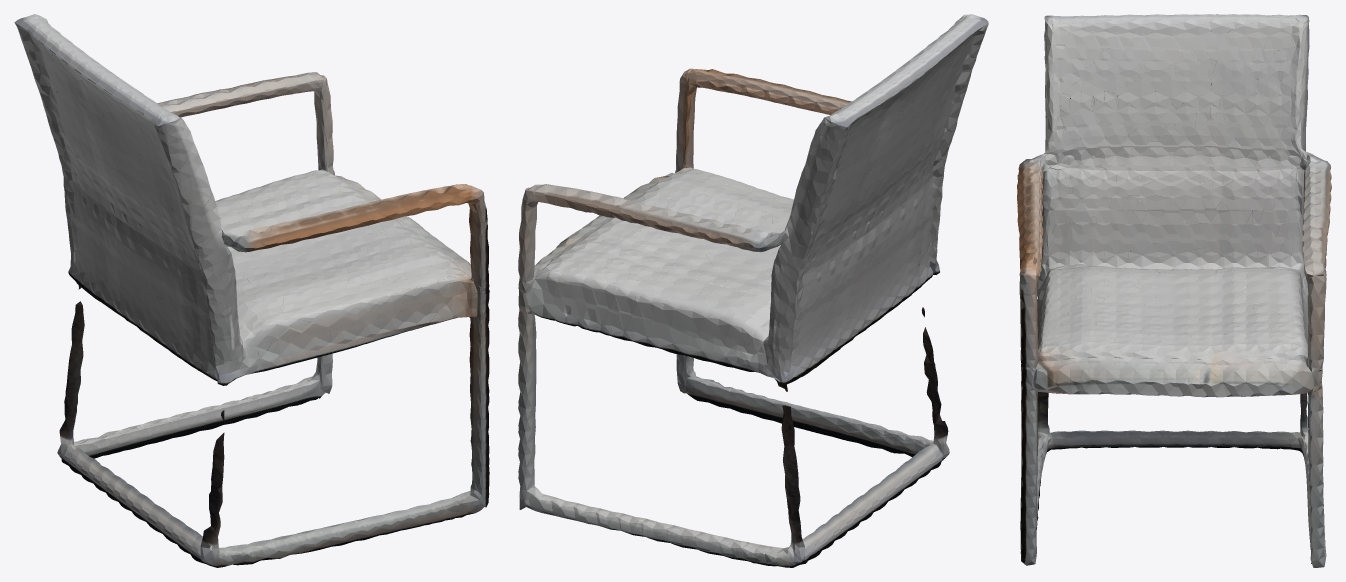
Rendered from elem_94_115_131_206_8_0.obj.
The picture shows the model from 3 angles, left to right: view 1: azimuth 30°, elevation 25°; view 2: azimuth 150°, elevation 25°; view 3: azimuth 270°, elevation 25°; orthographic projection. The views are drawn at different scales.
Size of the model in its own units: 0.5573 by 0.7134 by 0.4845.
1 material, 1 textured.
